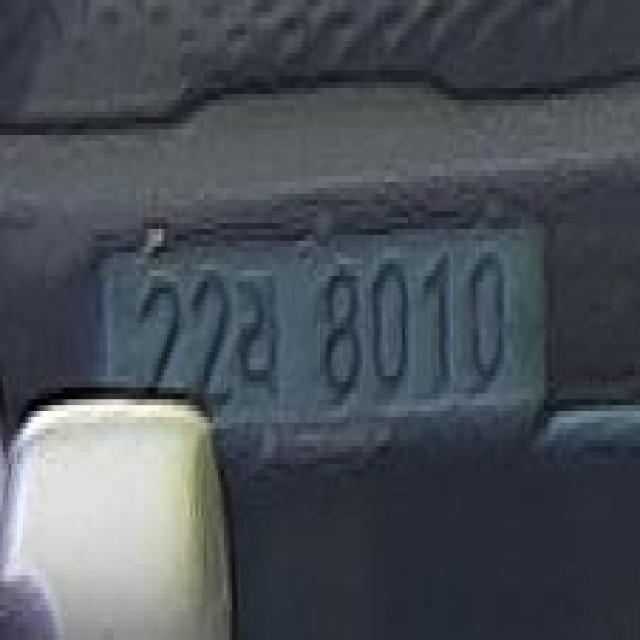EV_plate: (95, 197, 560, 470)
